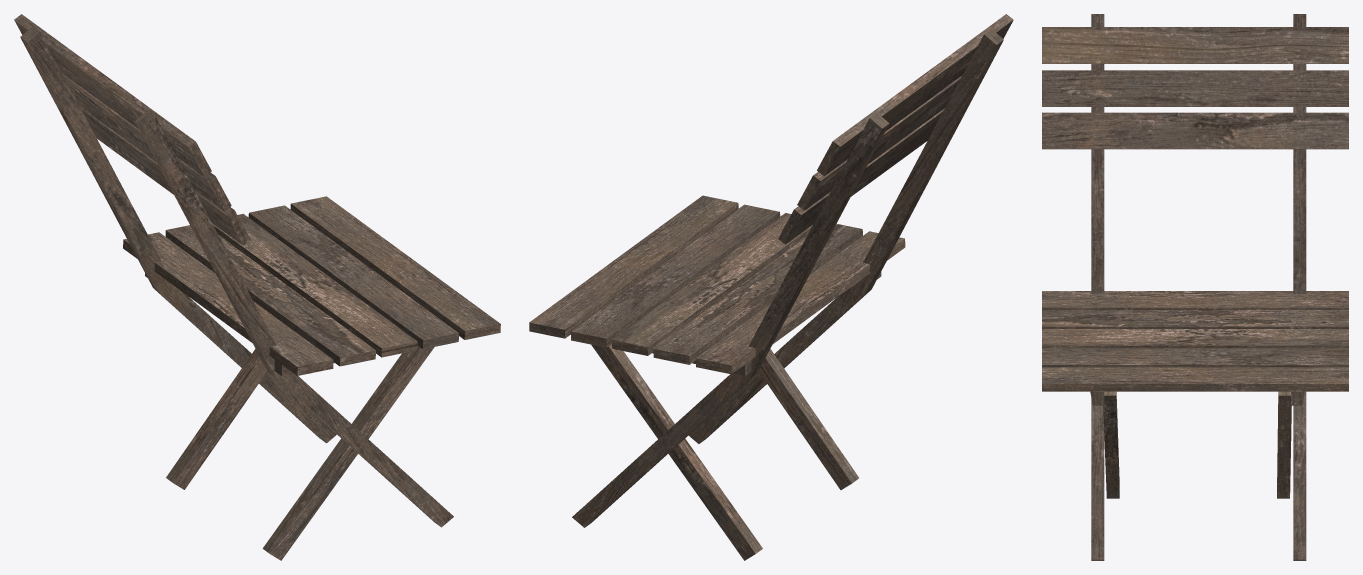
File: folding_chair.glb
The picture shows the model from 3 angles, left to right: view 1: azimuth 30°, elevation 25°; view 2: azimuth 150°, elevation 25°; view 3: azimuth 270°, elevation 25°; orthographic projection. The views are drawn at different scales.
Parts seen in each view (by area): view 1: folding_chair; view 2: folding_chair; view 3: folding_chair.
Boxes of the visible parts, bbox=[...] form: folding_chair: bbox=[14, 14, 500, 560]; folding_chair: bbox=[529, 14, 1013, 560]; folding_chair: bbox=[1042, 14, 1348, 560].
Size of the model in its own units: 0.7854 by 1.1 by 0.7173.
Materials: 1 (1 with a texture image).
